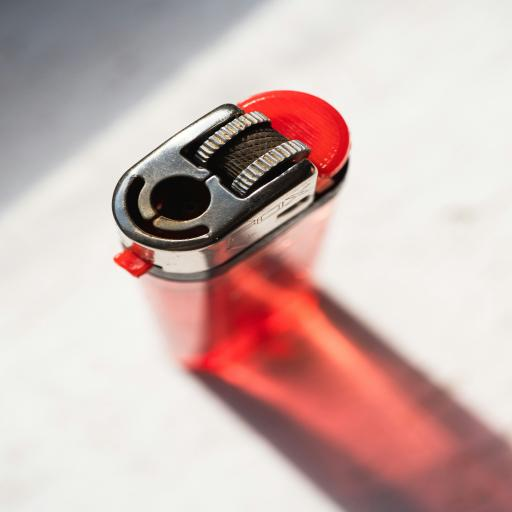lighter: (108, 97, 401, 397)
